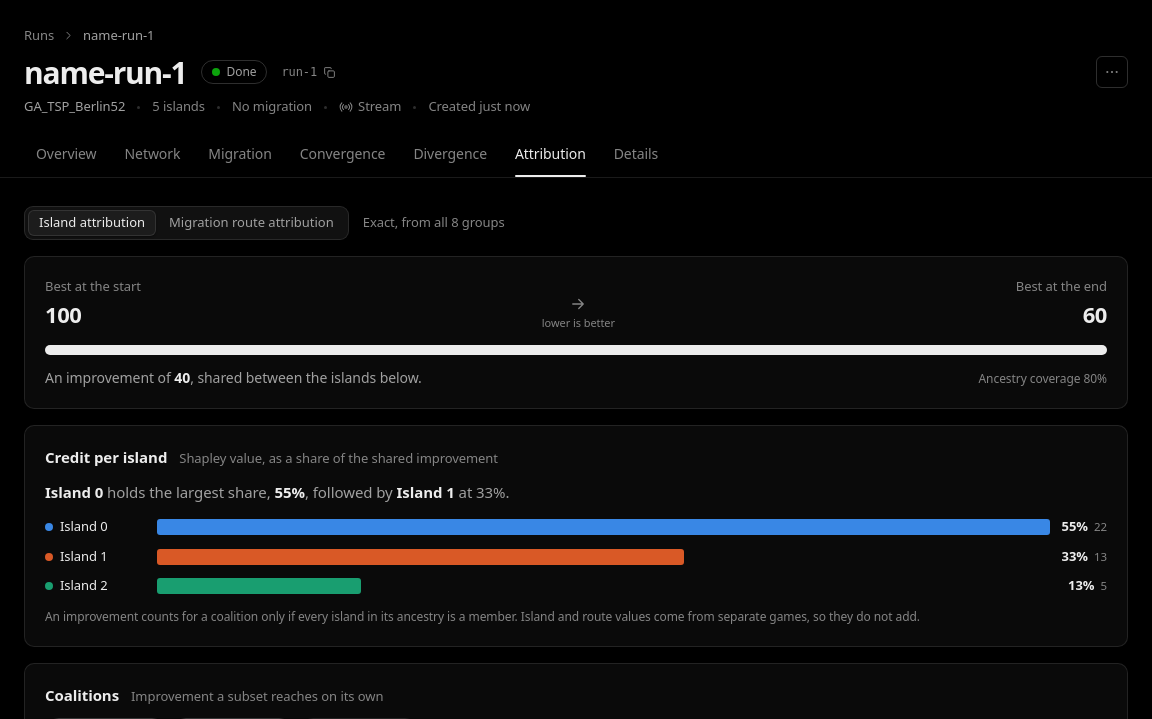
Test case: AttributionTab › hides route attribution when migration was off, but keeps island attribution
The image size is (1152, 719).
Click the button "Migration route attribution": coordinates (251, 223) [158,210,345,236]
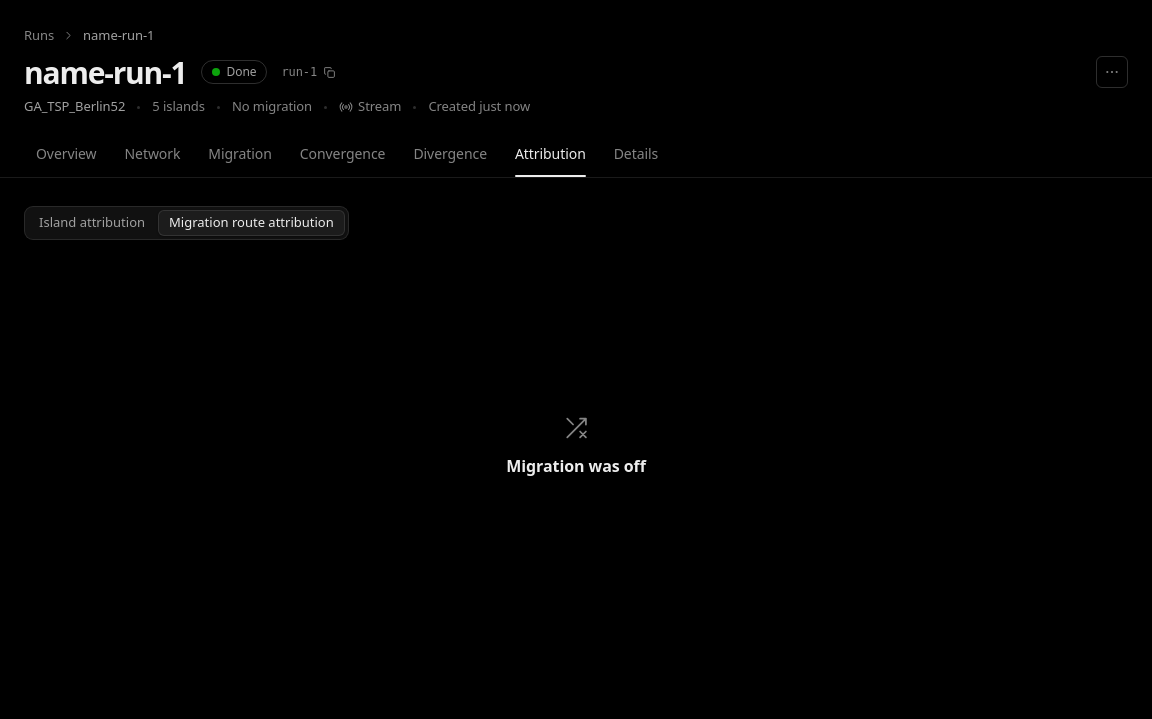
Result: the heading "Migration was off" is shown at [506,454,646,478]
Click the button "Island attribution": coordinates (92, 223) [28,210,156,236]
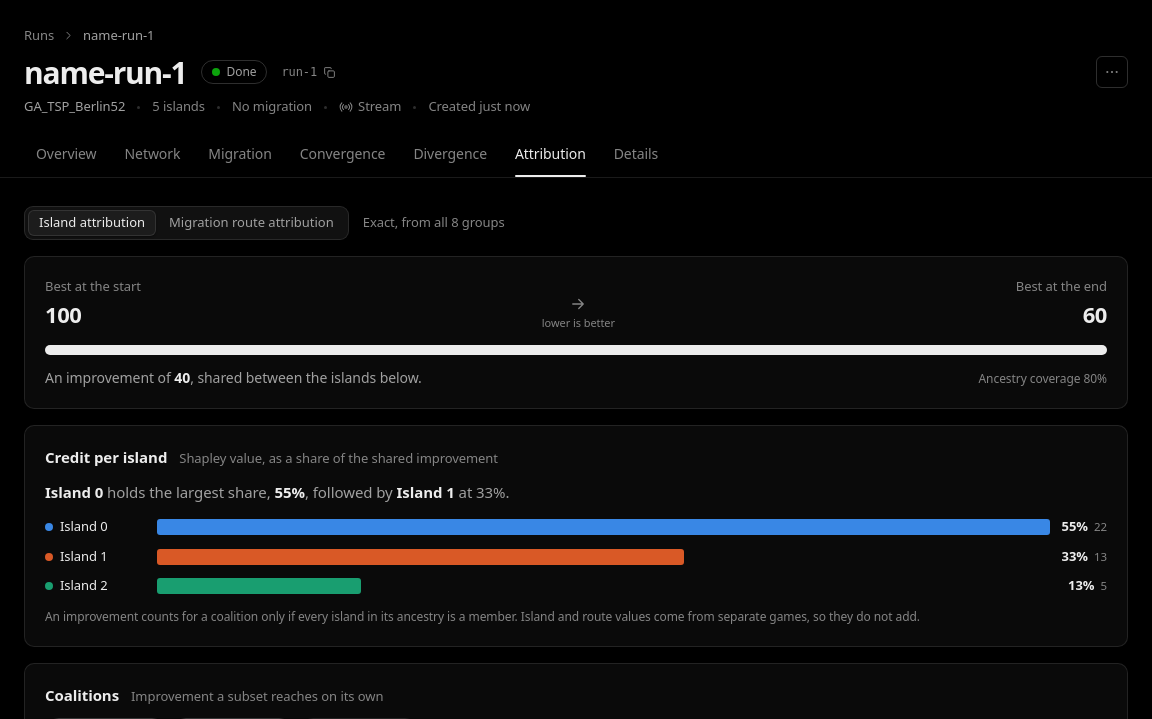
Result: the heading "Credit per island" is shown at [45,446,167,469]
